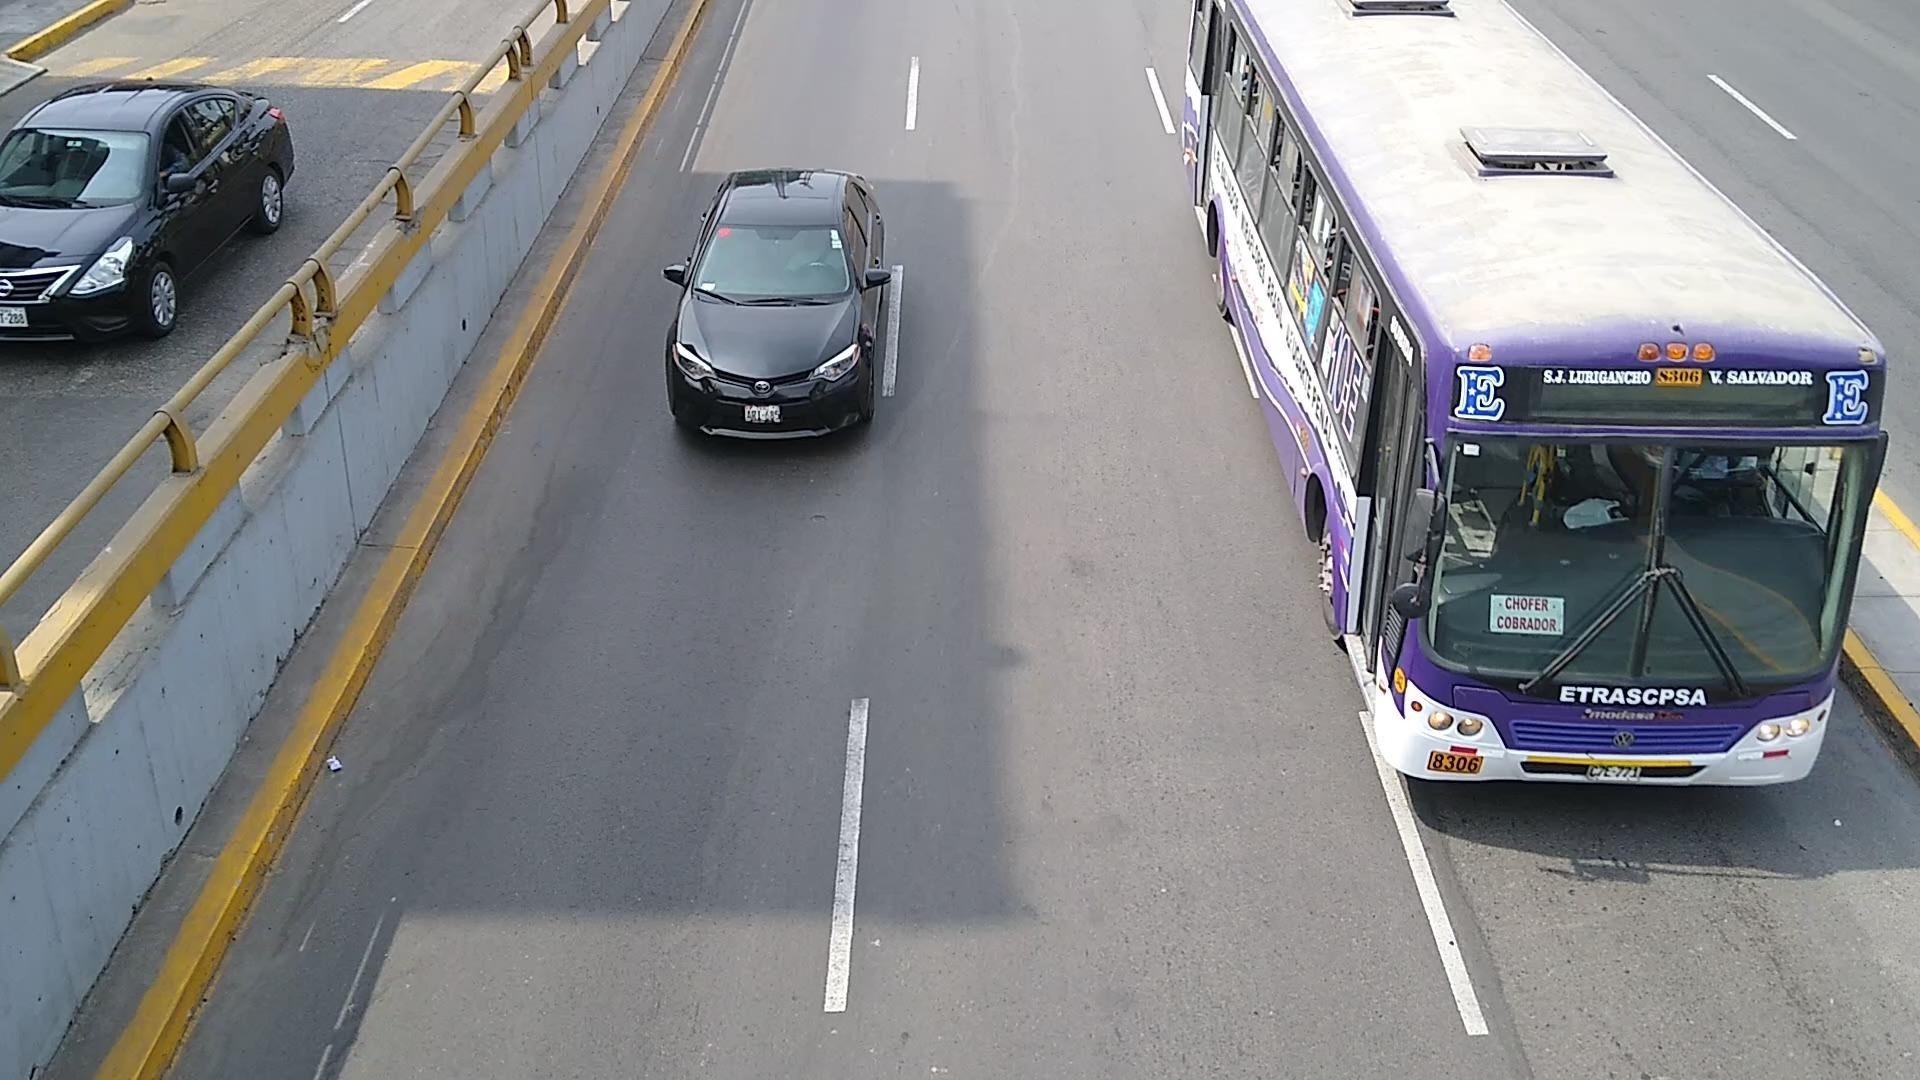bus: (1182, 0, 1890, 787)
car: (0, 79, 297, 339), (663, 169, 893, 439)
